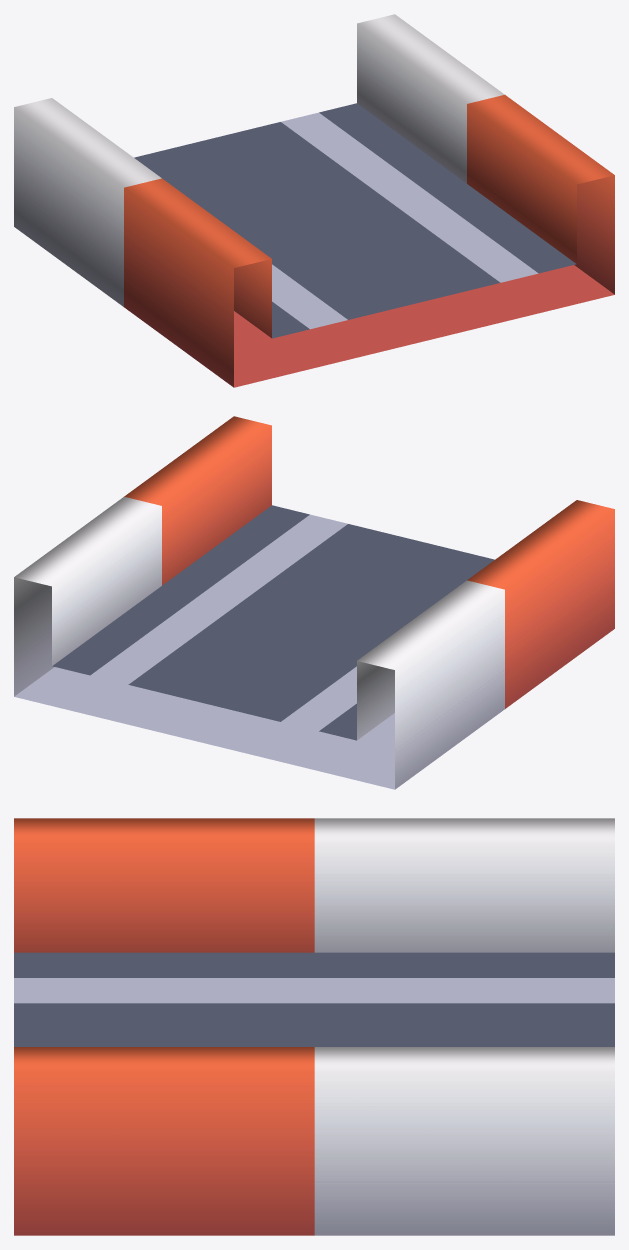
Rendered from track-road-narrow.glb.
The picture shows the model from 3 angles, top to bottom: view 1: azimuth 30°, elevation 25°; view 2: azimuth 150°, elevation 25°; view 3: azimuth 270°, elevation 25°; orthographic projection. The views are drawn at different scales.
Visible parts, largest first — view 1: track-road-narrow; view 2: track-road-narrow; view 3: track-road-narrow.
Part boxes in pixels (<box>): track-road-narrow: <box>14,14,614,387</box>; track-road-narrow: <box>14,416,614,789</box>; track-road-narrow: <box>14,818,614,1235</box>.
Bounding box in the file's own units: 1 × 0.3 × 1.
Materials: 1 (1 with a texture image).
